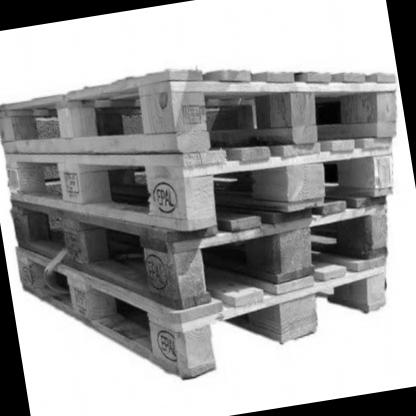BoxFace: (17, 246, 391, 383), (10, 196, 396, 311), (0, 71, 399, 155), (2, 145, 398, 229)
